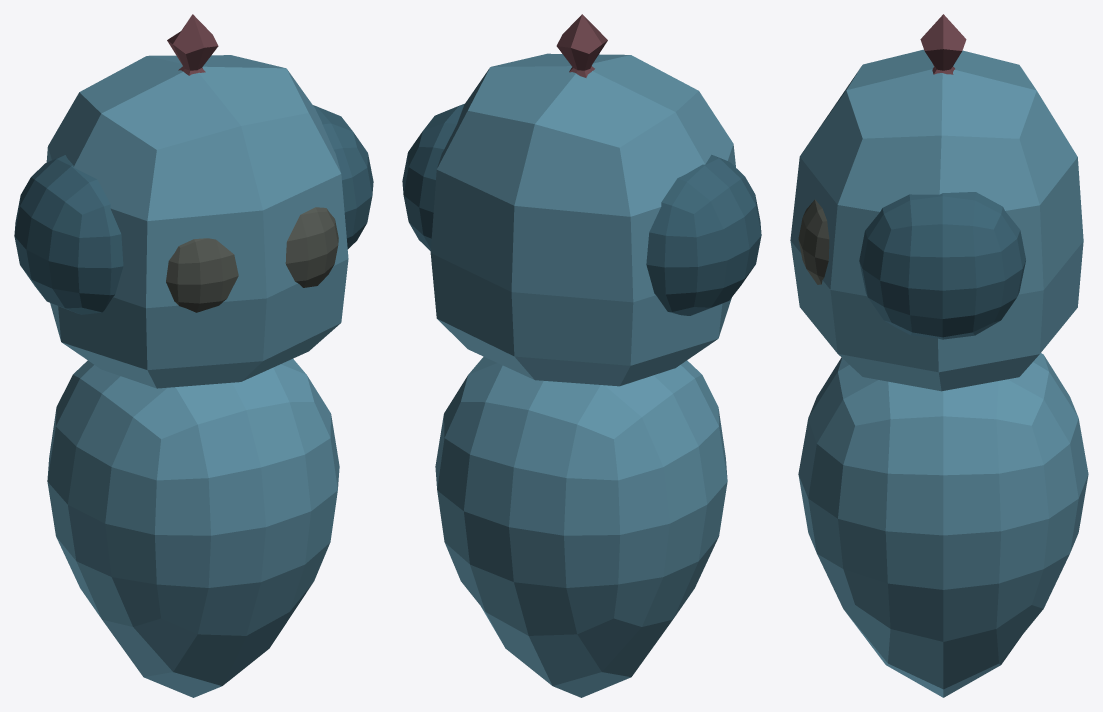
File: ziutek.glb
3 views of the same model, side by side, from view 1: azimuth 30°, elevation 25°; view 2: azimuth 150°, elevation 25°; view 3: azimuth 270°, elevation 25° (orthographic).
Parts seen in each view (by area): view 1: Cube.004; view 2: Cube.004; view 3: Cube.004.
Boxes of the visible parts, bbox=[...] form: Cube.004: bbox=[14, 14, 373, 697]; Cube.004: bbox=[402, 14, 761, 697]; Cube.004: bbox=[790, 14, 1088, 697].
Size of the model in its own units: 2.21 by 4.3 by 1.7.
2 materials, 2 textured.
